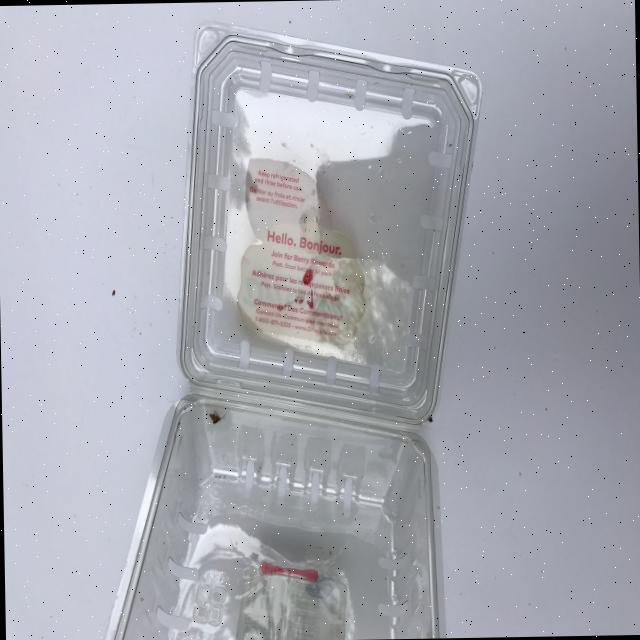plastic: (44, 5, 470, 640)
